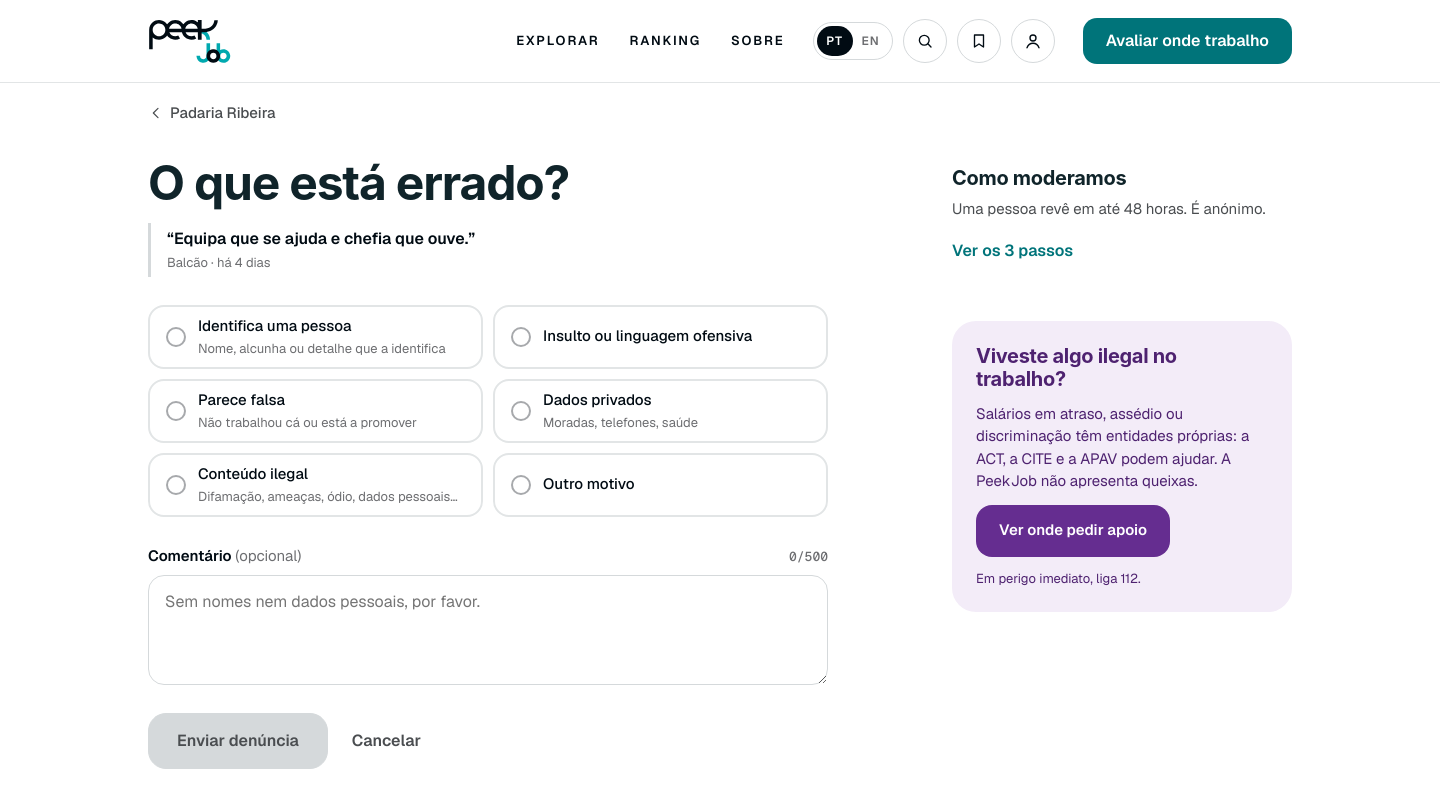
Test: Denunciar, demonstração (desktop) › sem motivo não envia e diz porquê; com motivo e detalhe envia e mostra a referência
Click the button "Enviar denúncia" at (238, 741), box [148, 713, 328, 769]
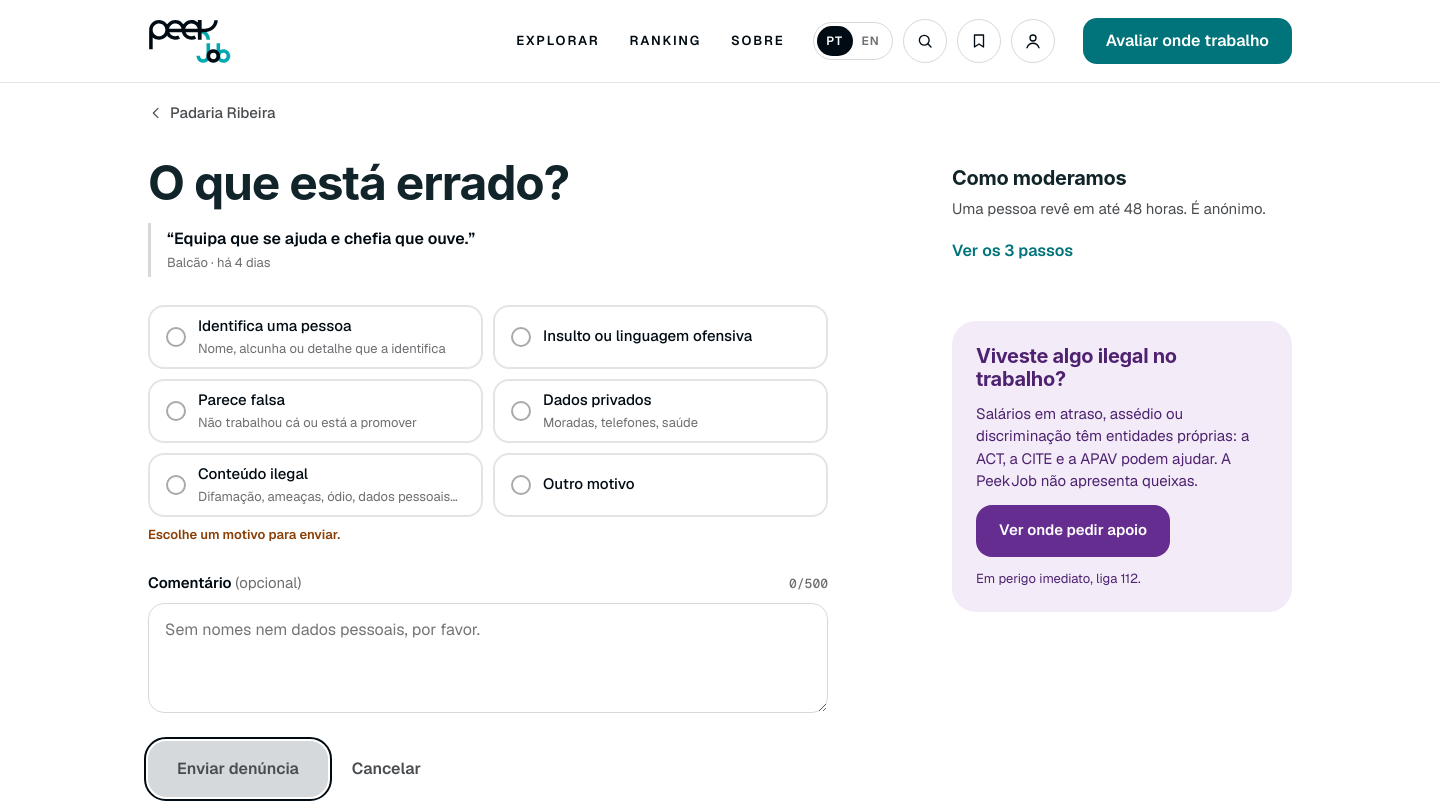
Expected: the message reads "Escolhe um motivo para enviar.", [148, 526, 340, 542]
Click the radio button labelled "Identifica uma pessoa" at (316, 336), box [148, 304, 483, 368]
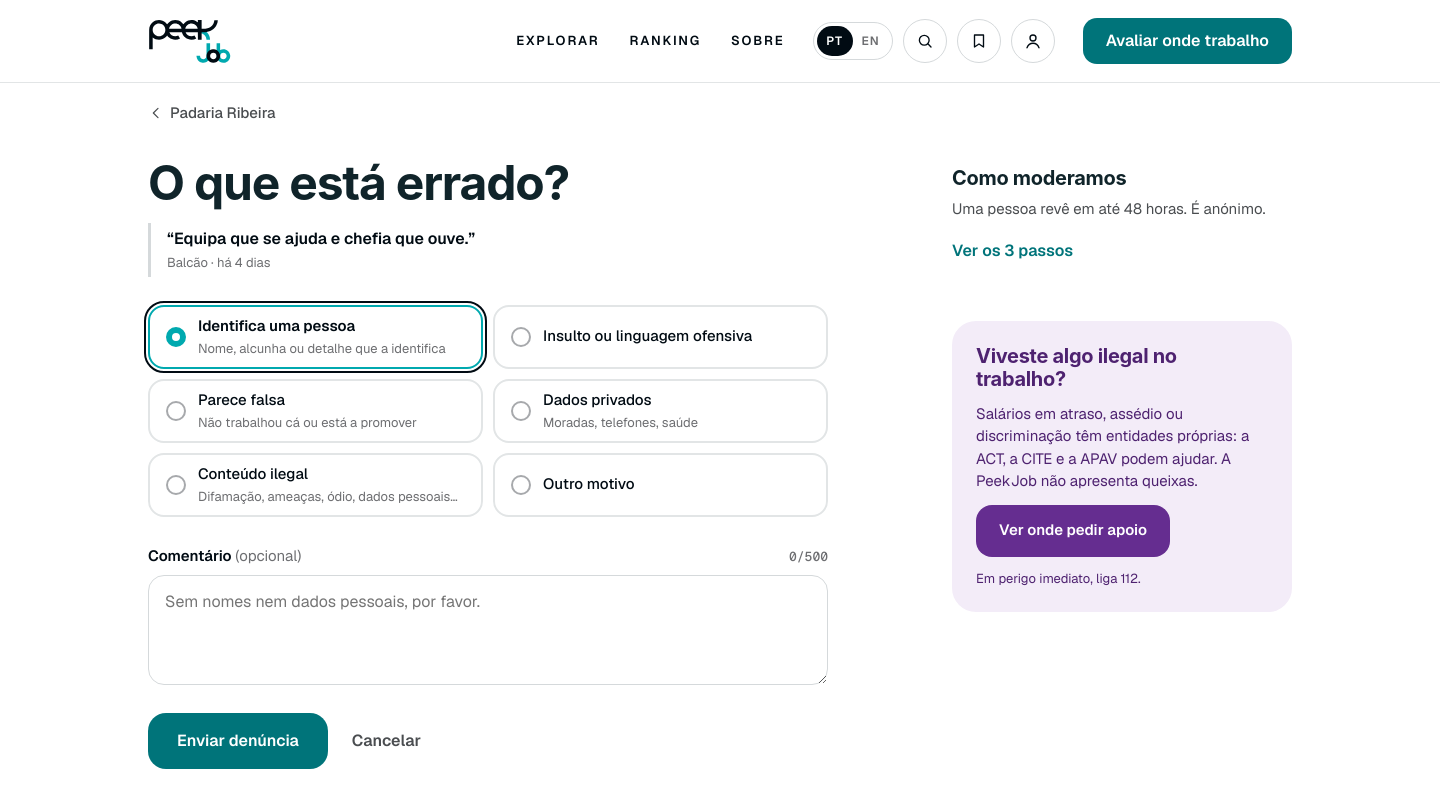
Expected: the message "Escolhe um motivo para enviar." is gone
Type "Diz o nome." into the text box at (488, 630), box [148, 575, 828, 685]
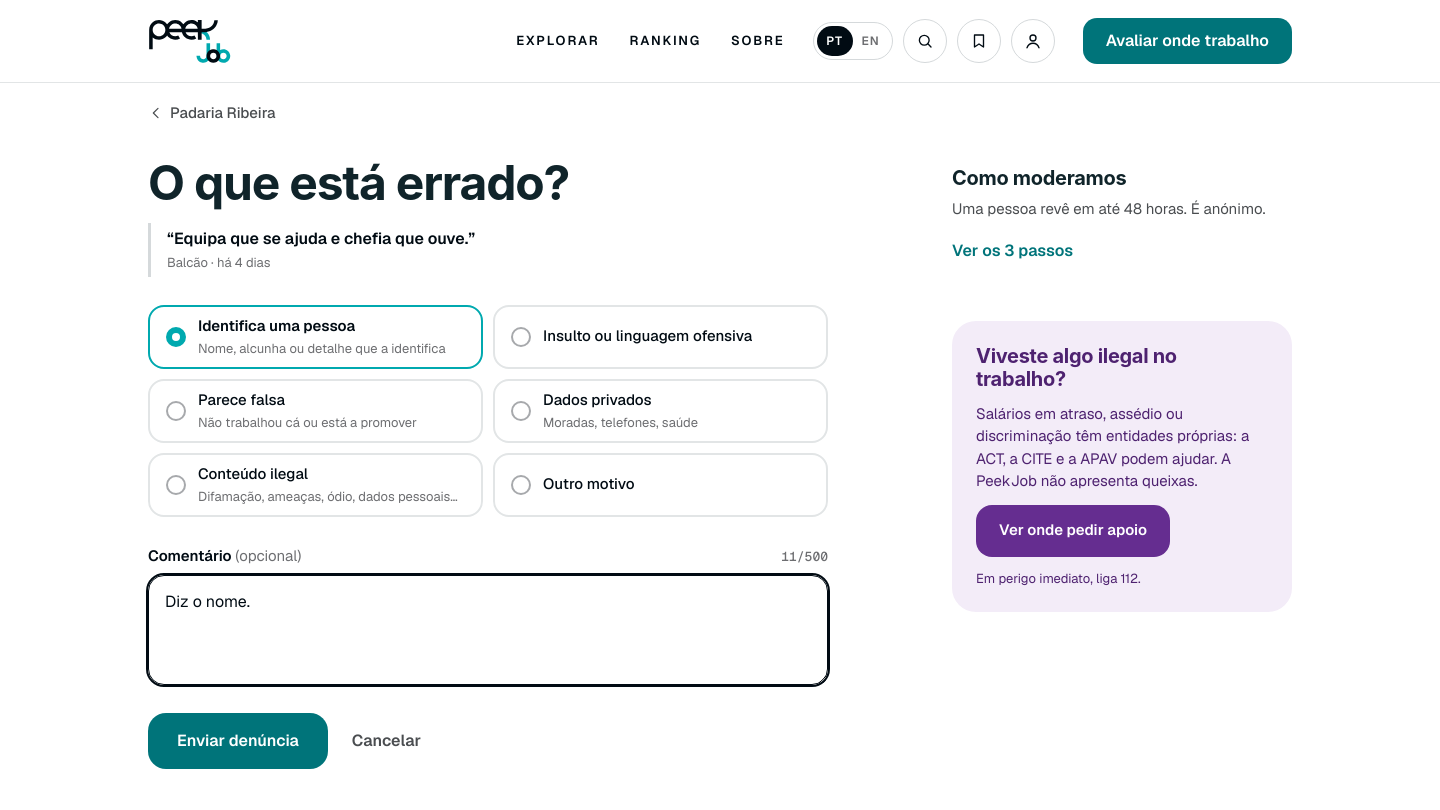
Expected: the text "11/500" is shown, [781, 546, 828, 566]
Click the button "Enviar denúncia" at (238, 741), box [148, 713, 328, 769]
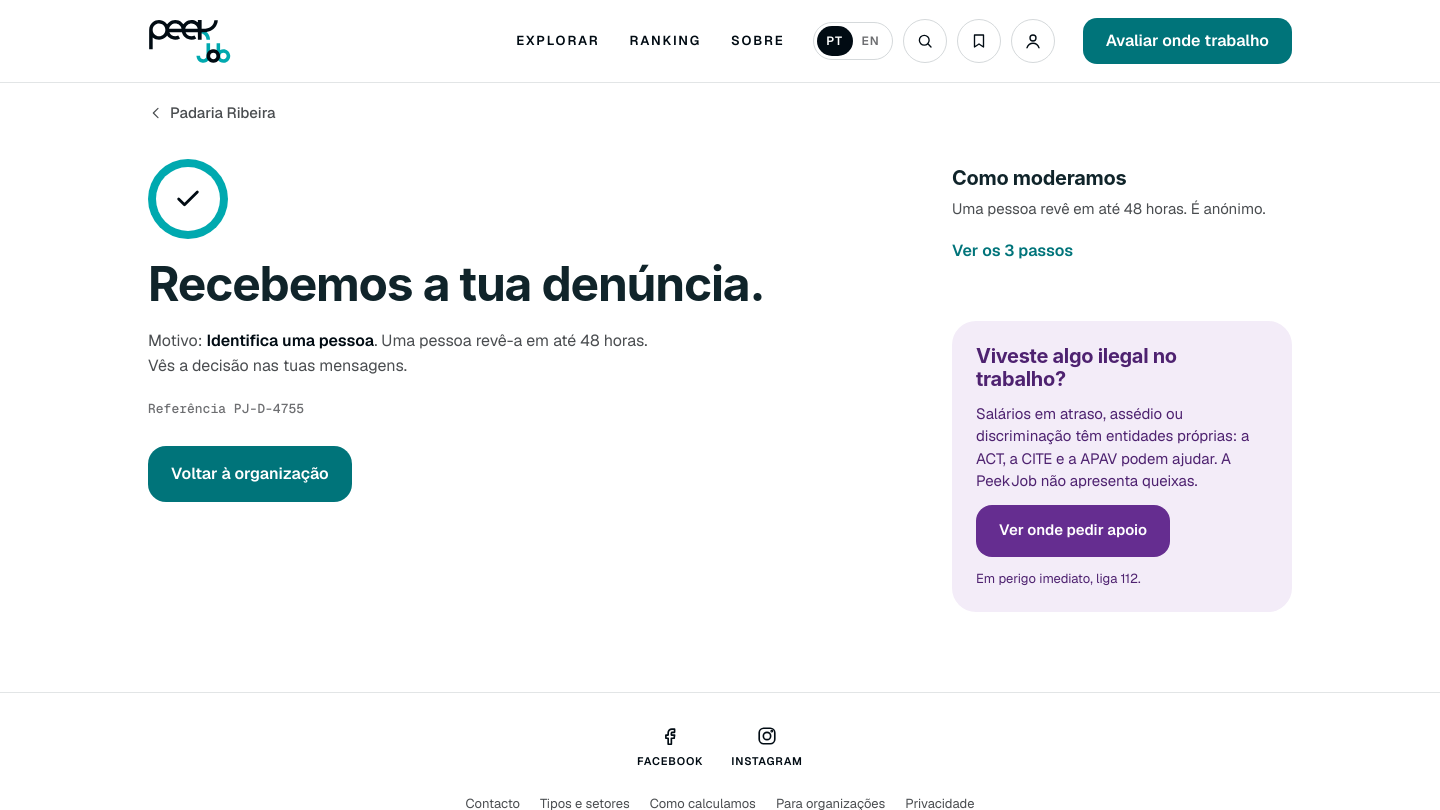
Expected: the message shows "Recebemos a tua denúncia.", [148, 254, 764, 313]
Expected: the message shows "Motivo: Identifica uma pessoa.", [148, 159, 828, 502]
Expected: the message shows "Vês a decisão nas tuas mensagens.", [148, 355, 407, 376]
